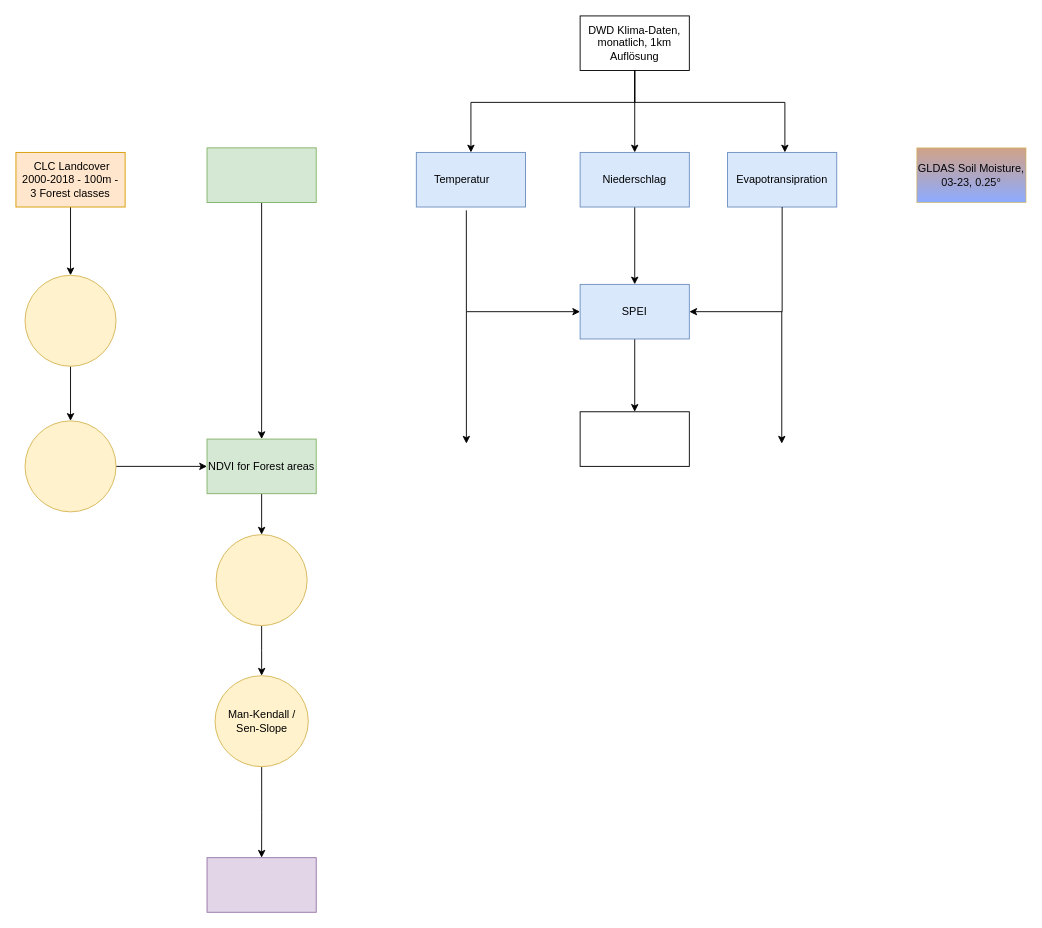
Image size: 1042x928. Some labels were removed from this diagram. The centre of each missing label's shape, as x and y in pixels:
"Deseasonalize?" belongs at point (261, 580).
"Modis 250 m NDVI: 16-Day Composites; 2000 - 2023" belongs at point (261, 174).
"Resample to NDVI-Resolution" belongs at point (70, 466).
"Select Pixel with Forest Cover in: all years? 2000?" belongs at point (70, 320).
"Significant positive / negative Trends in NDVI" belongs at point (261, 884).
